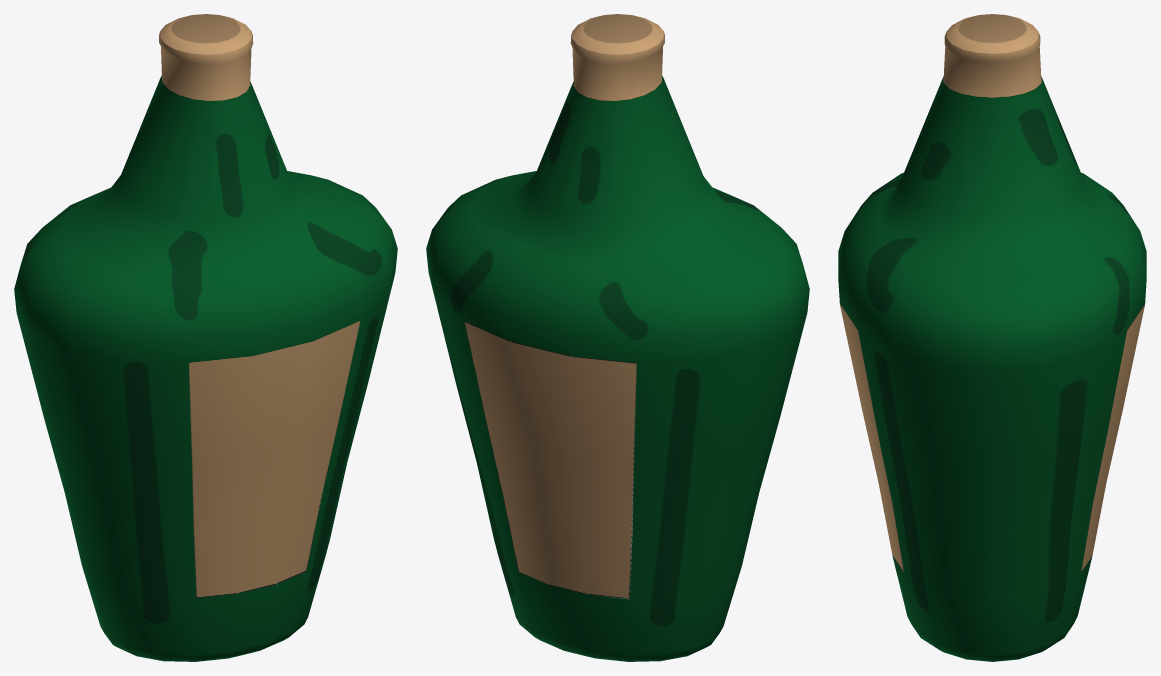
The model's file is Bottle asset.fbx.
3 views of the same model, side by side, from view 1: azimuth 30°, elevation 25°; view 2: azimuth 150°, elevation 25°; view 3: azimuth 270°, elevation 25° (orthographic).
Visible parts, largest first — view 1: Cylinder001; view 2: Cylinder001; view 3: Cylinder001.
Part boxes in pixels (x1,y1,x2,y2): Cylinder001: (14,14,397,661); Cylinder001: (426,14,809,661); Cylinder001: (838,14,1146,661).
Size of the model in its own units: 27.08 by 44.26 by 20.85.
Materials: 1 (1 with a texture image).
